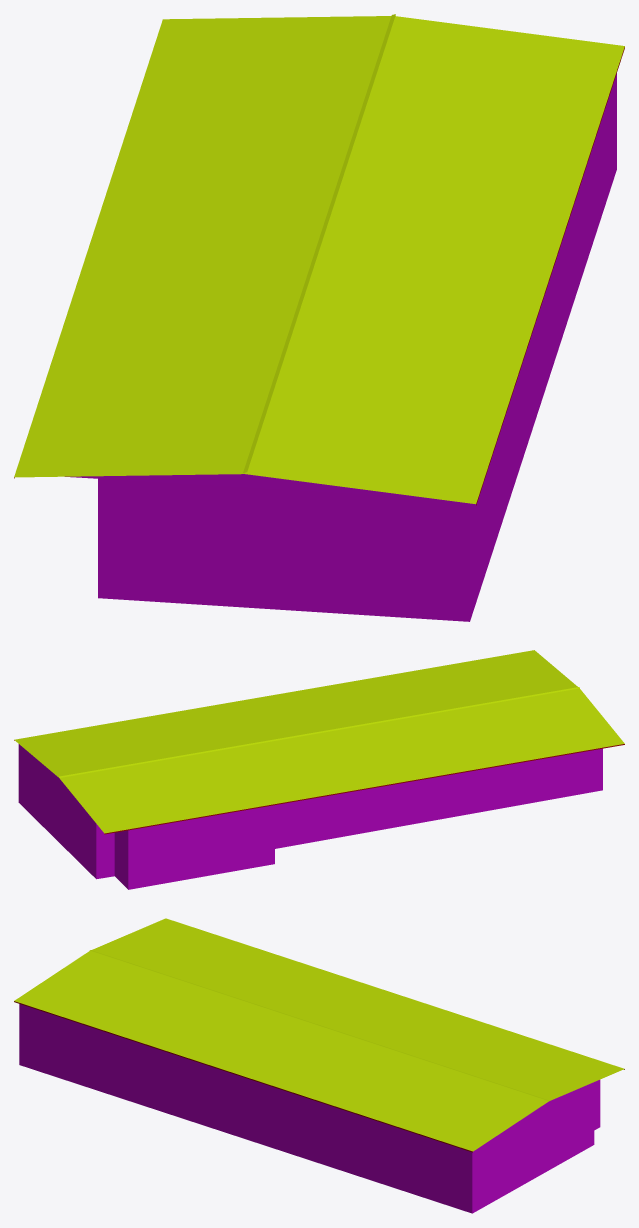
The model's file is mey_0.glb.
3 views of the same model, one above another, from view 1: azimuth 30°, elevation 25°; view 2: azimuth 150°, elevation 25°; view 3: azimuth 270°, elevation 25° (orthographic). The views are drawn at different scales.
Visible parts, largest first — view 1: mey_0; view 2: mey_0; view 3: mey_0.
Part boxes in pixels (bbox=[...]): mey_0: bbox=[14, 14, 624, 621]; mey_0: bbox=[14, 650, 624, 889]; mey_0: bbox=[14, 918, 624, 1213].
Size of the model in its own units: 57.98 by 8.6 by 64.17.
